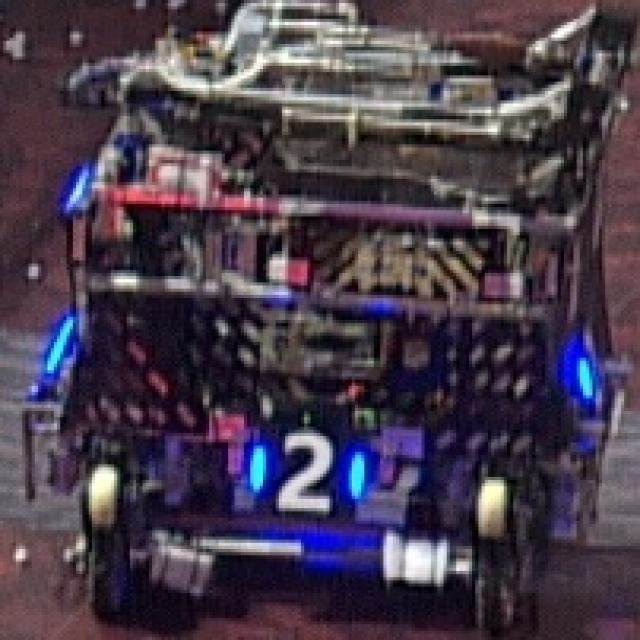B2: (238, 418, 370, 512)
